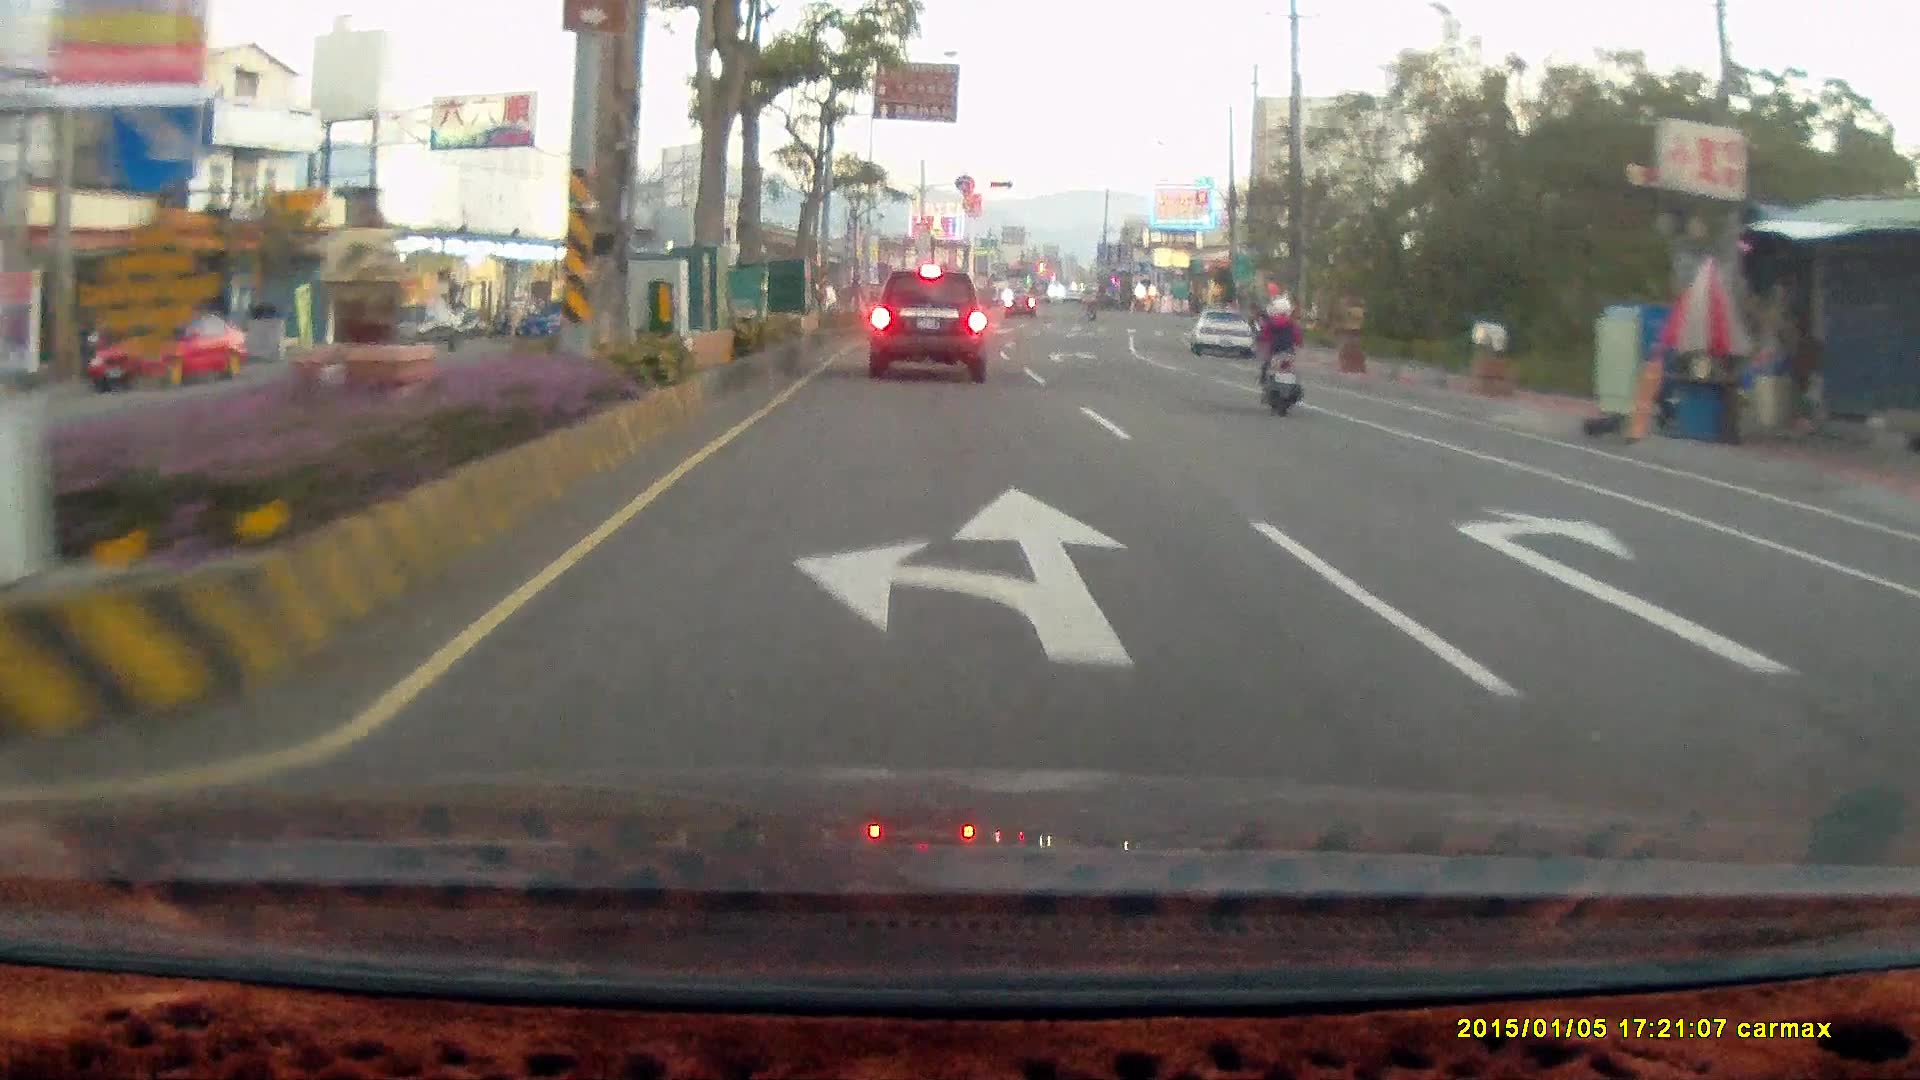rider: (1252, 291, 1306, 417)
vehicle: (869, 266, 985, 381), (96, 307, 246, 388), (1896, 493, 1920, 836), (1883, 528, 1920, 690), (365, 302, 473, 353), (1189, 306, 1255, 360), (1189, 303, 1254, 357)
